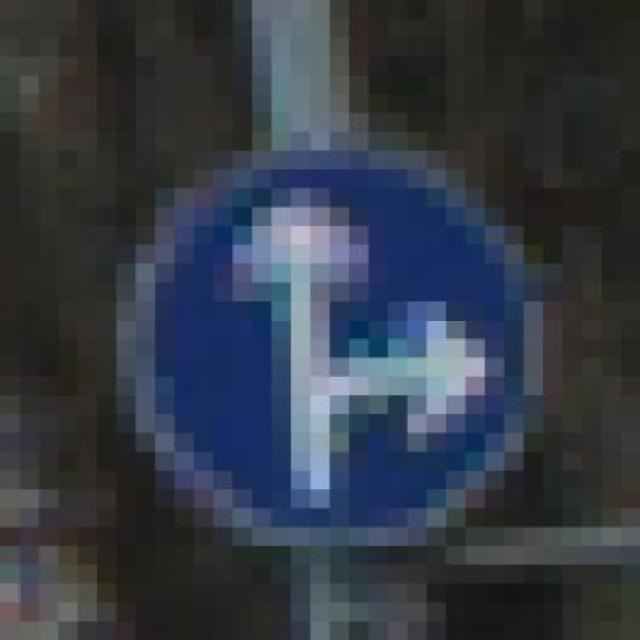Go Straight or Turn Right: (77, 132, 601, 566)
